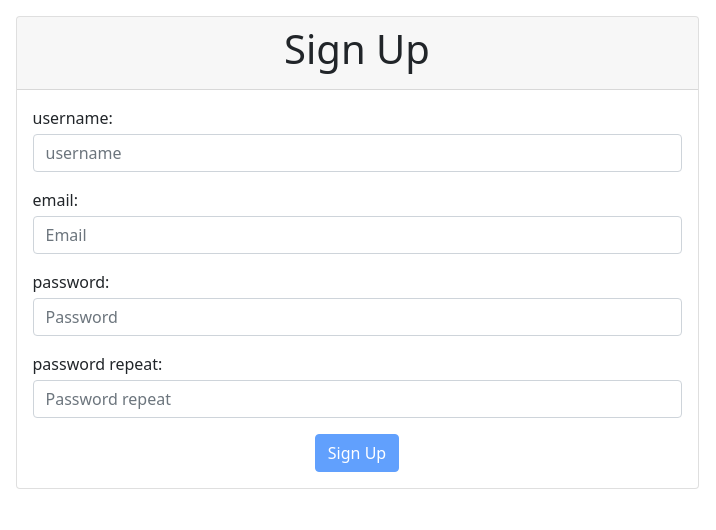
Test: Sign Up Page › Interactions › displays Password cannot be null error for password
Type "devAmirHemmati" into the field labelled "username:".
click(357, 153); type("devAmirHemmati")  # box [32, 134, 682, 172]
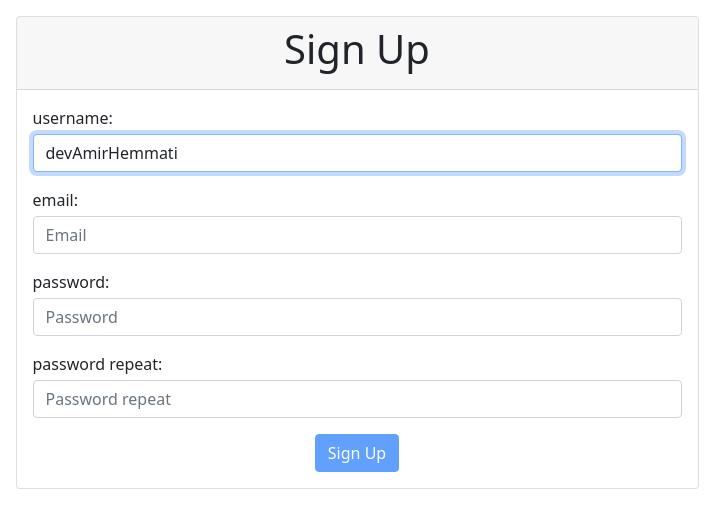
Type "dev.amirhemmati1382@gmail.com" into the field labelled "email:".
click(357, 235); type("dev.amirhemmati1382@gmail.com")  # box [32, 216, 682, 254]
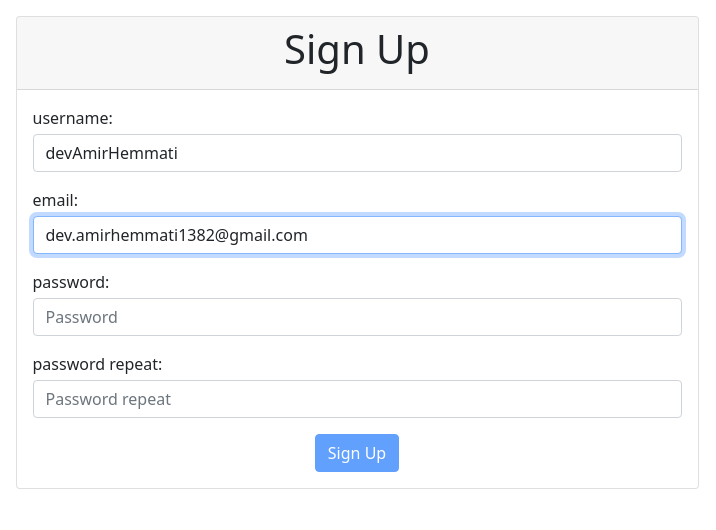
Type "myPass" into the password field labelled "password:".
click(357, 317); type("myPass")  # box [32, 298, 682, 336]
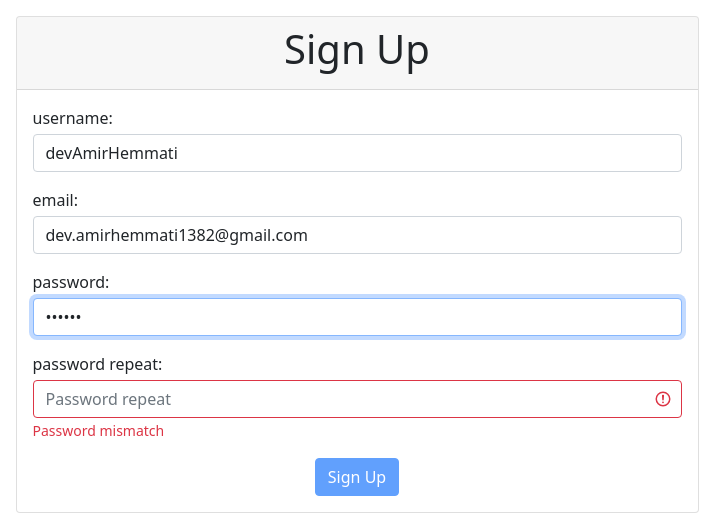
Type "myPass" into the password field labelled "password repeat:".
click(357, 399); type("myPass")  # box [32, 380, 682, 418]
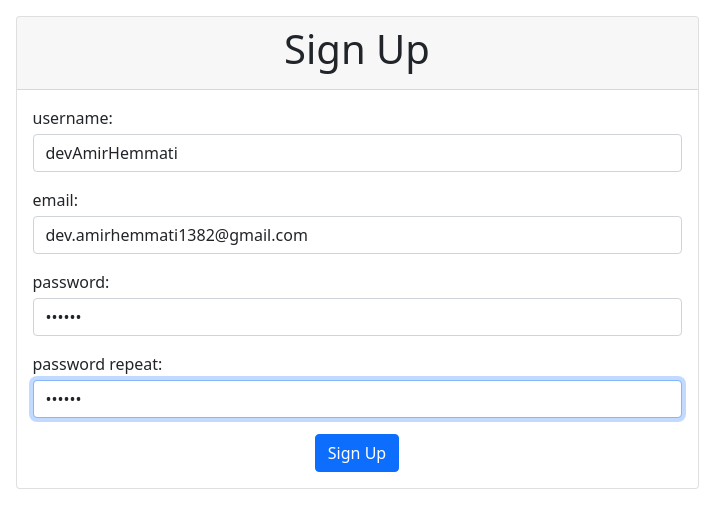
Click the button "Sign Up".
click(357, 453)  # box [315, 434, 399, 472]
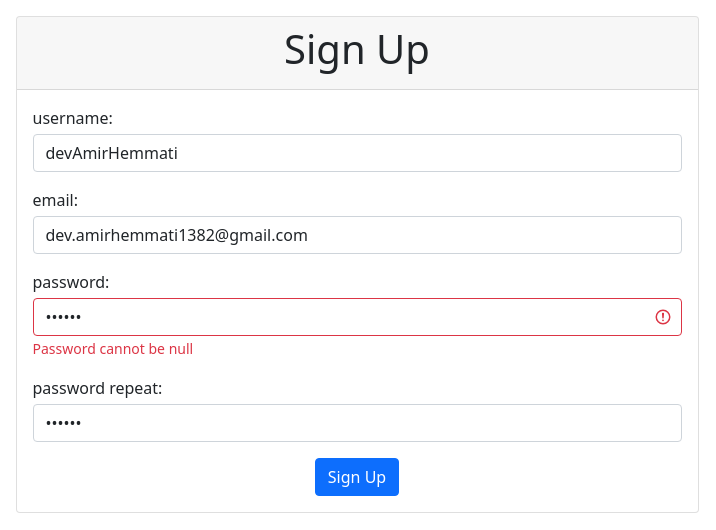
Now the text "Password cannot be null" is shown, box [32, 339, 193, 358]
